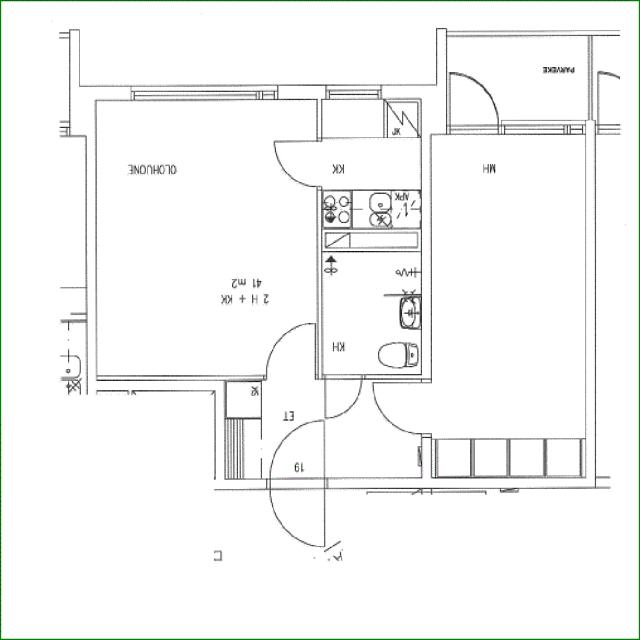door: (270, 479, 324, 546), (270, 421, 324, 488), (449, 73, 498, 134), (374, 382, 432, 433), (266, 324, 314, 380), (273, 140, 322, 187), (324, 375, 362, 419)
